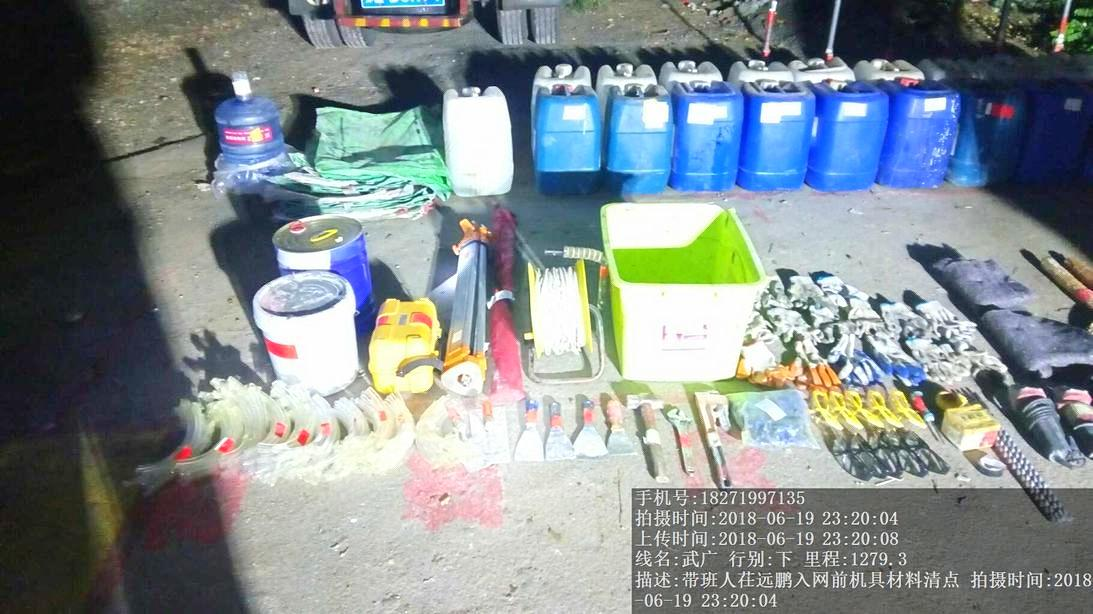BZD: (307, 94, 446, 217)
DX: (511, 255, 610, 393)
SLT: (595, 79, 674, 195), (812, 79, 885, 198), (740, 79, 812, 197), (885, 83, 958, 196), (535, 84, 605, 201), (674, 81, 740, 197)
T: (595, 198, 759, 383)
